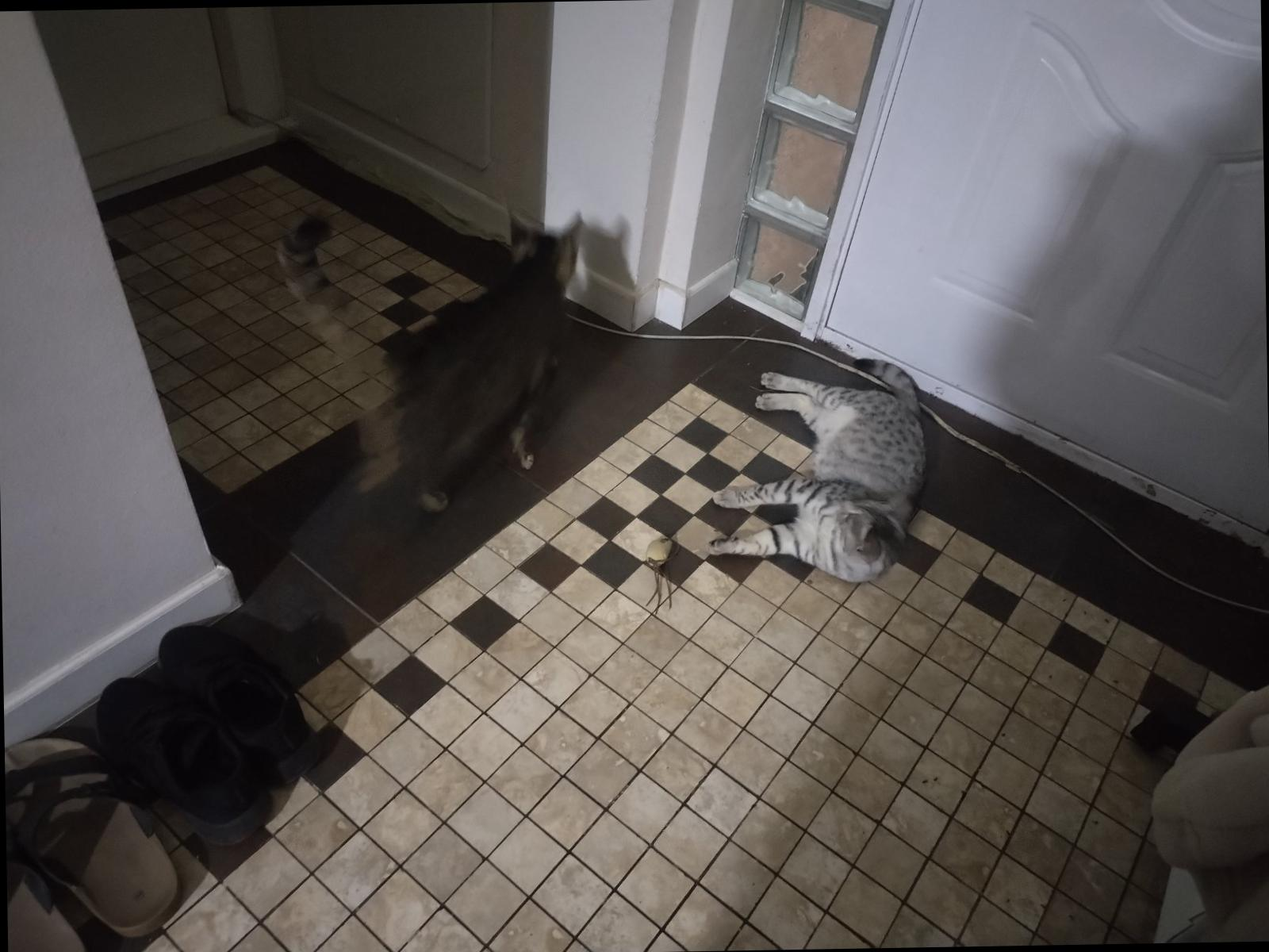macka: (280, 206, 598, 514), (699, 351, 938, 586)
